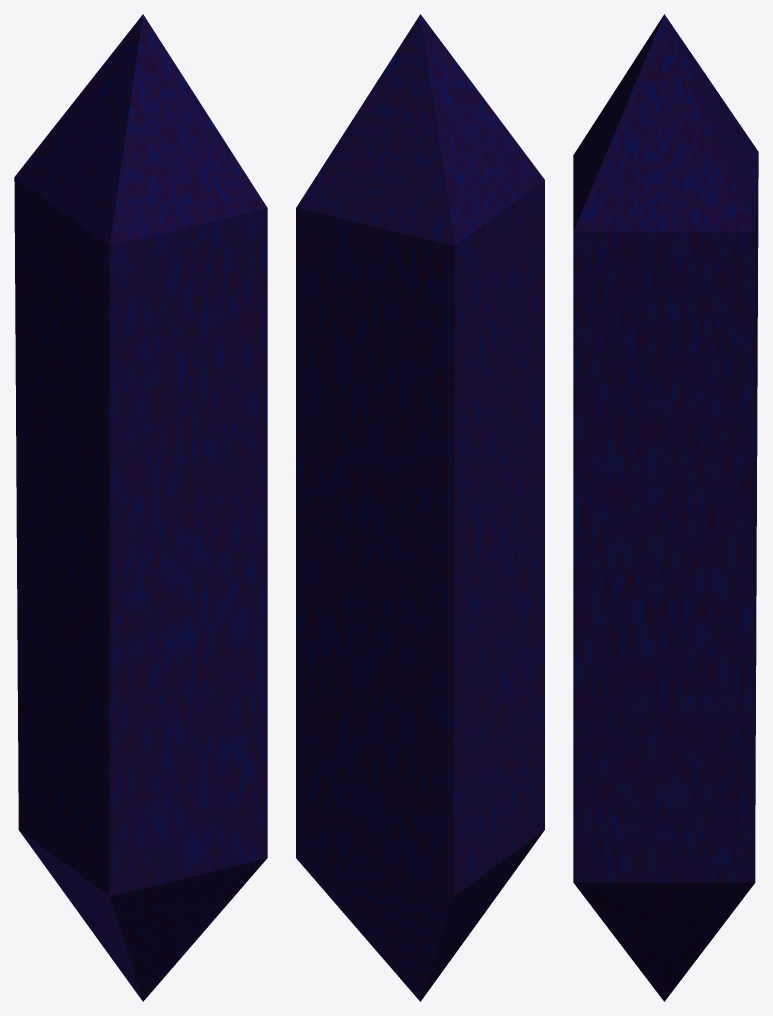
Rendered from obelisk3.fbx.
3 views of the same model, side by side, from view 1: azimuth 30°, elevation 25°; view 2: azimuth 150°, elevation 25°; view 3: azimuth 270°, elevation 25° (orthographic).
Parts seen in each view (by area): view 1: Cube; view 2: Cube; view 3: Cube.
Boxes of the visible parts, x1,y1,x2,y2 form: Cube: (14, 14, 267, 1001); Cube: (296, 14, 544, 1001); Cube: (573, 14, 758, 1001).
Bounding box in the file's own units: 203 × 1197 × 203.
